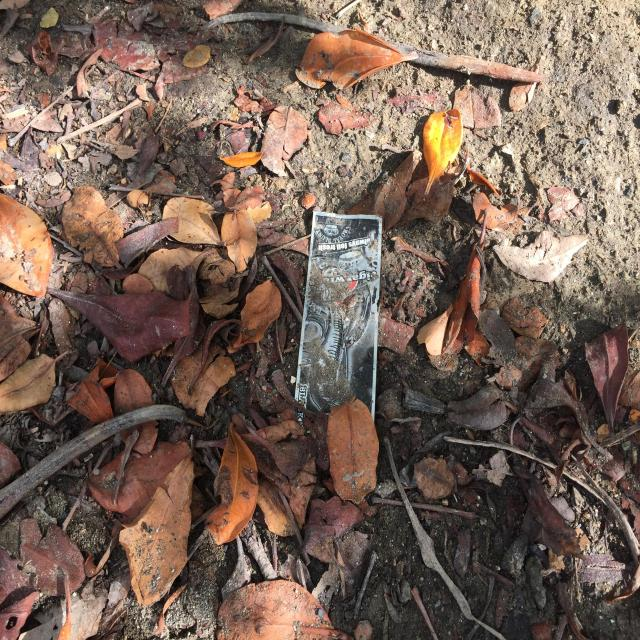litter: (293, 212, 383, 434)
